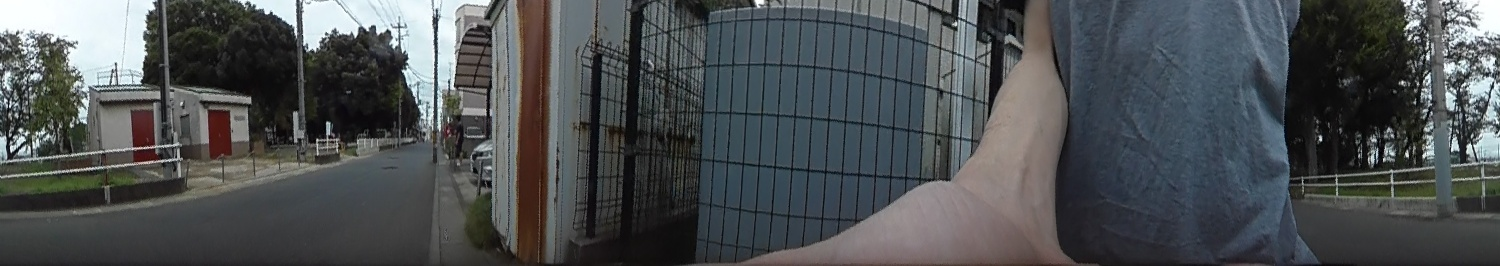difficult_person: (452, 113, 466, 164)
